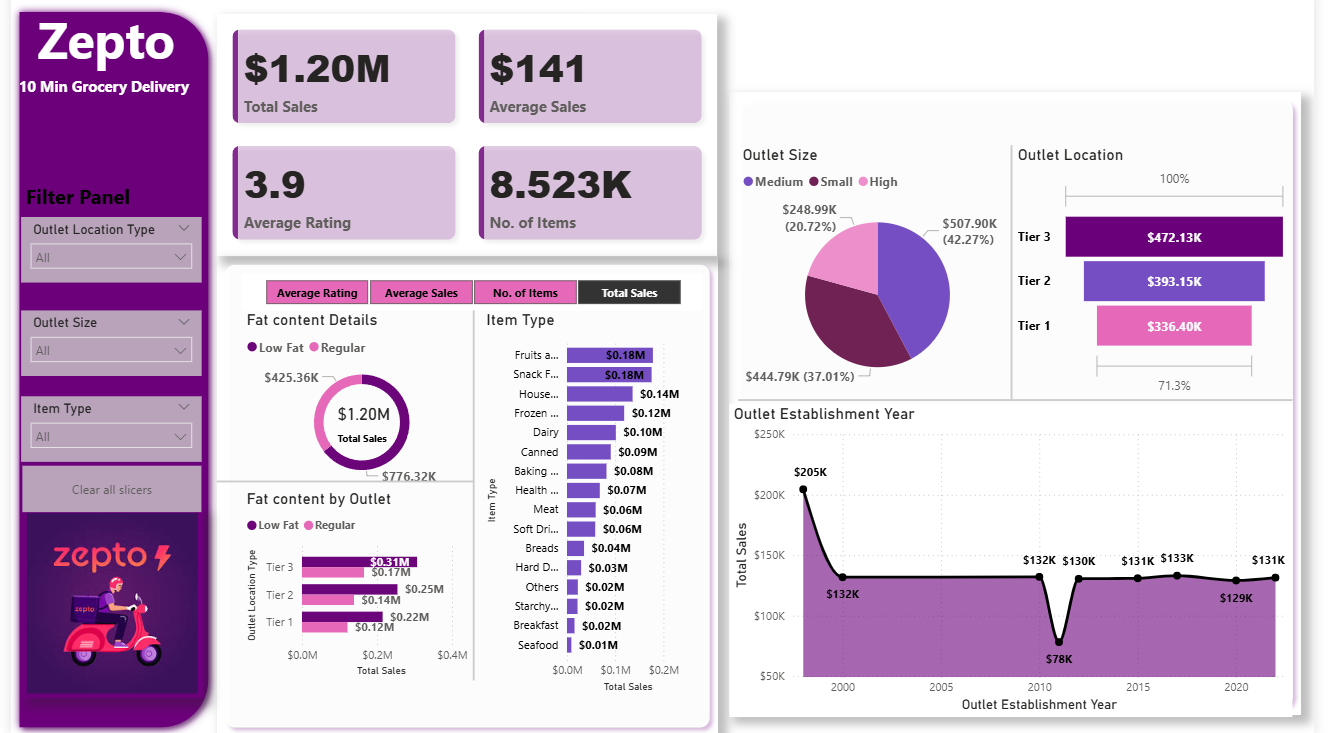

Layout of this report page (visuals, bound fields, positions):
{"tool":"powerbi","page":{"name":"Page 1","canvas":[1400,800],"ordinal":0},"visuals":[{"type":"shape","box":[0,13.6,221.2,787],"z":0},{"type":"textbox","box":[0,10.7,204.3,91.5],"z":1000},{"type":"textbox","box":[0,86.9,204.3,44.2],"z":2000},{"type":"cardVisual","fields":{"Data":["zeptoStore data.Total Sales","zeptoStore data.Average Sales","zeptoStore data.Average Rating","zeptoStore data.No. of Items"]},"box":[221,24.4,538.1,260.7],"z":3000},{"type":"shape","box":[221.2,284.9,538.7,515.6],"z":4000},{"type":"donutChart","title":"Fat content Details","fields":{"Y":["zeptoStore data.Total Sales"],"Category":["zeptoStore data.Item Fat Content"]},"box":[248.3,343.3,257.8,192.7],"z":5000},{"type":"slicer","fields":{"Values":["Parameter.Parameter"]},"box":[248.3,303.9,495.3,39.4],"z":6000},{"type":"cardVisual","fields":{"Data":["zeptoStore data.Total Sales"]},"box":[333.8,427.4,97.7,76],"z":7000},{"type":"clusteredBarChart","title":"Fat content by Outlet","fields":{"Y":["zeptoStore data.Total Sales"],"Category":["zeptoStore data.Outlet Location Type"],"Series":["zeptoStore data.Item Fat Content"]},"box":[248.3,536,257.8,204.9],"z":8000},{"type":"shape","box":[221.2,503.4,276.8,47.5],"z":9000},{"type":"shape","box":[466.8,343.3,61.1,397.6],"z":10000},{"type":"barChart","title":"Item Type","fields":{"Y":["zeptoStore data.Total Sales"],"Category":["zeptoStore data.Item Type"]},"box":[506.1,343.3,245.6,415.2],"z":11000},{"type":"shape","box":[772.1,108.6,614.7,669],"z":12000},{"type":"lineChart","title":"Outlet Establishment Year","fields":{"Category":["zeptoStore data.Outlet Establishment Year"],"Y":["zeptoStore data.Total Sales"]},"box":[772.1,443.7,605.2,336.5],"z":13000},{"type":"pieChart","title":"Outlet Size","fields":{"Category":["zeptoStore data.Outlet Size"],"Y":["zeptoStore data.Total Sales"]},"box":[781.6,165.5,299.9,274.1],"z":14000},{"type":"funnel","title":"Outlet Location","fields":{"Category":["zeptoStore data.Outlet Location Type"],"Y":["zeptoStore data.Total Sales"]},"box":[1077.4,165.5,299.9,274.1],"z":15000},{"type":"shape","box":[1044.8,165.5,61.1,274.1],"z":16000},{"type":"shape","box":[781.6,408.4,595.7,62.4],"z":17000},{"type":"textbox","box":[10.9,200.8,164.2,65.1],"z":18000},{"type":"slicer","fields":{"Values":["zeptoStore data.Outlet Location Type"]},"box":[10.9,242.9,194,70.6],"z":19000},{"type":"slicer","fields":{"Values":["zeptoStore data.Outlet Size"]},"box":[10.9,343.3,194,70.6],"z":20000},{"type":"slicer","fields":{"Values":["zeptoStore data.Item Type"]},"box":[10.9,435.6,194,70.6],"z":21000},{"type":"image","box":[11.6,556.5,193.8,203.7],"z":22000},{"type":"actionButton","box":[12.2,510.2,192.7,50.2],"z":23000}]}

Visuals, with their boxes in screenshot pixels (x1, y1, x2, y2):
shape: x1=3 y1=0 x2=211 y2=732
textbox: x1=3 y1=0 x2=195 y2=82
textbox: x1=3 y1=68 x2=195 y2=109
cardVisual - zeptoStore data.Total Sales x zeptoStore data.Average Sales: x1=211 y1=9 x2=715 y2=253
shape: x1=211 y1=253 x2=715 y2=732
"Fat content Details" donutChart: x1=236 y1=308 x2=478 y2=488
slicer - Parameter.Parameter: x1=236 y1=271 x2=700 y2=308
cardVisual - zeptoStore data.Total Sales: x1=316 y1=387 x2=408 y2=458
"Fat content by Outlet" clusteredBarChart: x1=236 y1=488 x2=478 y2=680
shape: x1=211 y1=458 x2=470 y2=502
shape: x1=441 y1=308 x2=498 y2=680
"Item Type" barChart: x1=478 y1=308 x2=708 y2=697
shape: x1=727 y1=88 x2=1303 y2=715
"Outlet Establishment Year" lineChart: x1=727 y1=402 x2=1294 y2=717
"Outlet Size" pieChart: x1=736 y1=141 x2=1017 y2=398
"Outlet Location" funnel: x1=1013 y1=141 x2=1294 y2=398
shape: x1=982 y1=141 x2=1040 y2=398
shape: x1=736 y1=369 x2=1294 y2=427
textbox: x1=14 y1=174 x2=168 y2=235
slicer - zeptoStore data.Outlet Location Type: x1=14 y1=214 x2=195 y2=280
slicer - zeptoStore data.Outlet Size: x1=14 y1=308 x2=195 y2=374
slicer - zeptoStore data.Item Type: x1=14 y1=394 x2=195 y2=460
image: x1=14 y1=508 x2=196 y2=698
actionButton: x1=15 y1=464 x2=195 y2=511
